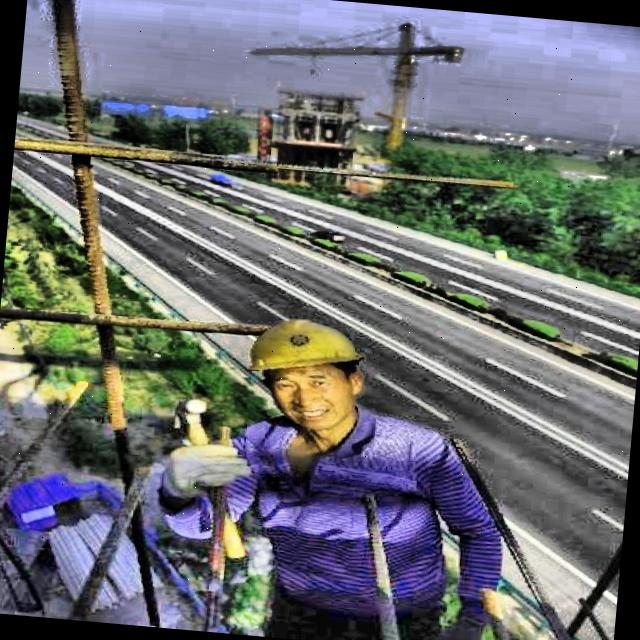helmet: (230, 306, 381, 438)
